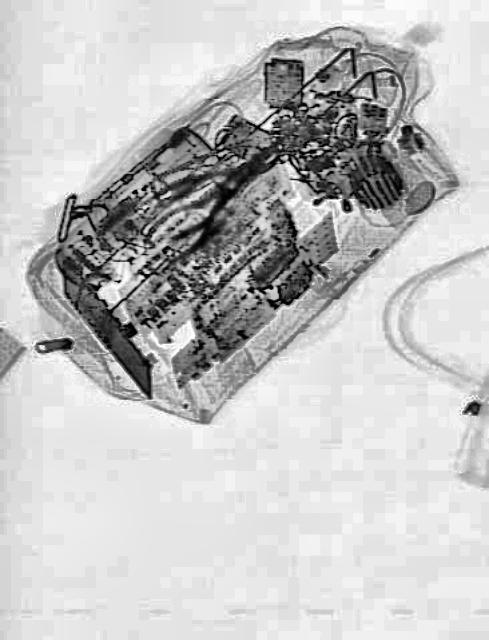Pliers: (138, 130, 278, 272)
